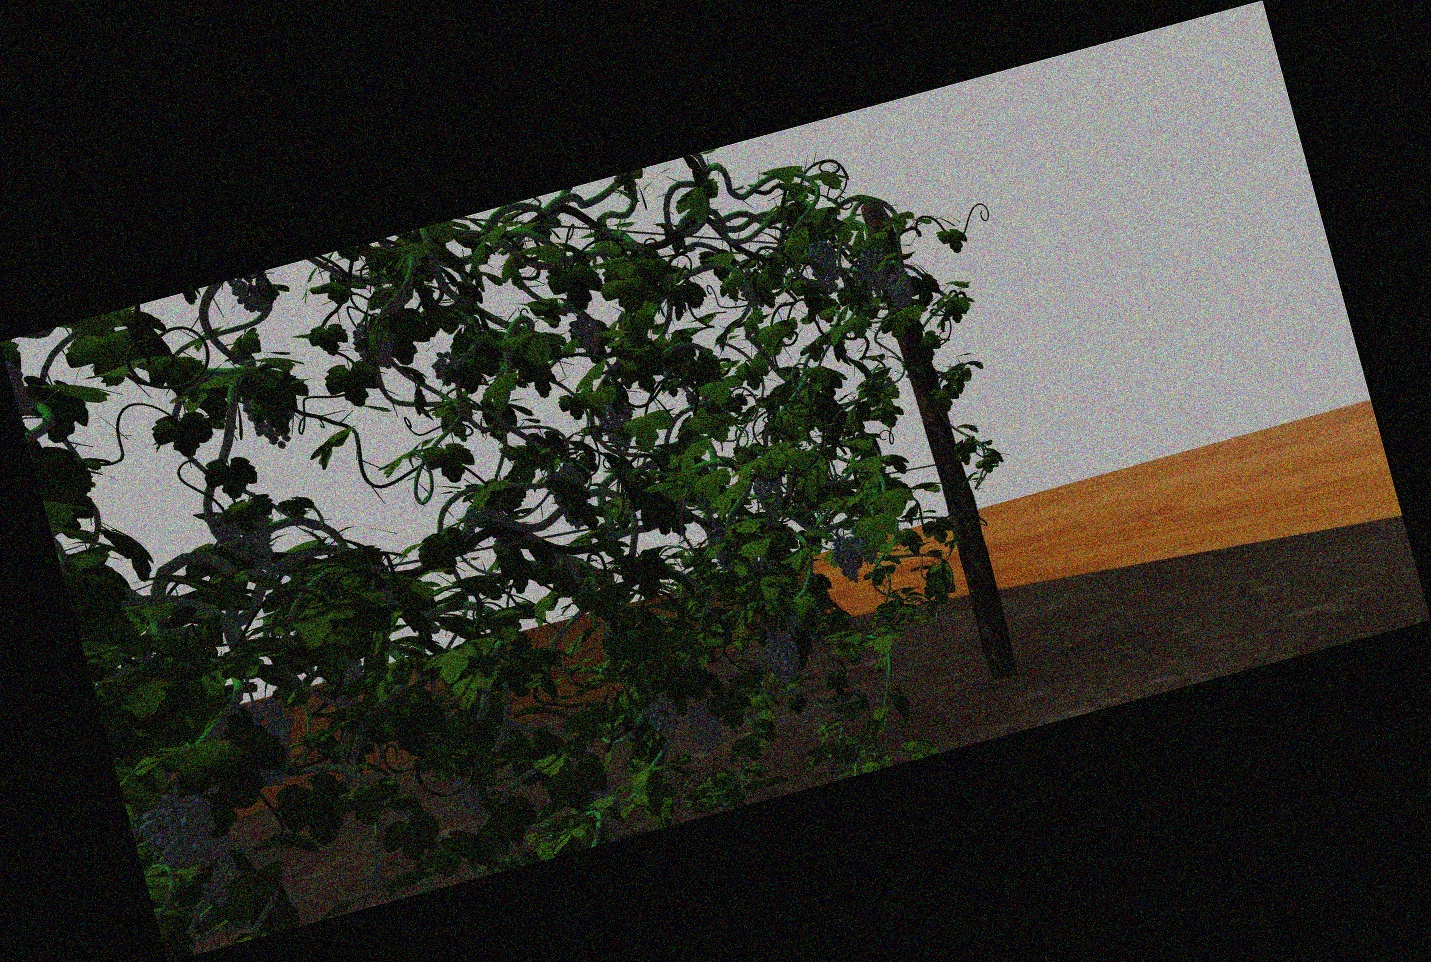grape: (142, 795, 215, 865), (247, 699, 300, 787), (220, 508, 275, 573), (599, 395, 636, 454), (198, 860, 244, 906), (354, 321, 396, 369), (766, 630, 800, 686), (456, 772, 497, 816), (860, 243, 892, 297), (689, 701, 724, 752), (809, 239, 841, 294), (232, 276, 275, 314), (833, 534, 860, 585), (754, 471, 784, 515), (570, 314, 602, 354), (646, 696, 678, 735), (888, 272, 914, 314), (432, 350, 465, 380), (858, 536, 878, 564)
